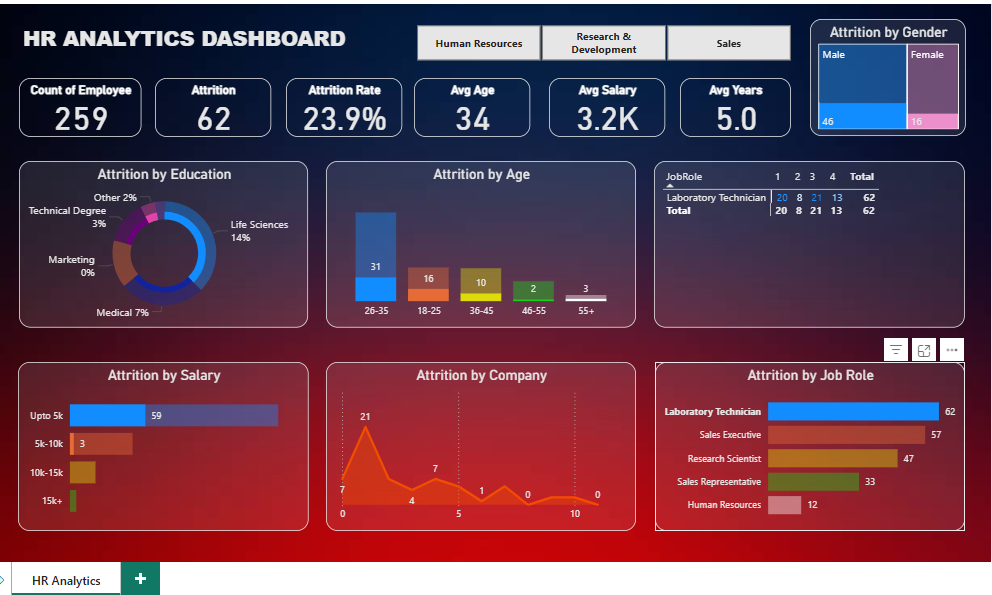

Layout of this report page (visuals, bound fields, positions):
{"tool":"powerbi","page":{"name":"Page 1","canvas":[1280,720],"ordinal":0},"visuals":[{"type":"card","title":"Count of Employee","fields":{"Values":["Count(HR_Analytics.EmpID)"]},"box":[26.4,95.1,158.5,75.7],"z":0},{"type":"card","title":"Attrition","fields":{"Values":["Sum(HR_Analytics.AttritionCount)"]},"box":[200.7,95.1,149.7,75.7],"z":1000},{"type":"card","title":"Attrition Rate","fields":{"Values":["HR_Analytics.AttritionRate"]},"box":[369.7,95.1,149.7,75.7],"z":2000},{"type":"card","title":"Avg Age","fields":{"Values":["Avg(HR_Analytics.Age)"]},"box":[535.2,95.1,149.7,75.7],"z":3000},{"type":"card","title":"Avg Years","fields":{"Values":["Avg(HR_Analytics.YearsAtCompany)"]},"box":[878.6,95.1,142.6,75.7],"z":4000},{"type":"card","title":"Avg Salary","fields":{"Values":["Avg(HR_Analytics.MonthlyIncome)"]},"box":[709.5,95.1,149.7,75.7],"z":5000},{"type":"donutChart","title":"Attrition by Education","fields":{"Category":["HR_Analytics.EducationField"],"Y":["Sum(HR_Analytics.AttritionCount)"]},"box":[26.4,202.5,373.3,214.8],"z":6000},{"type":"columnChart","title":"Attrition by Age","fields":{"Category":["HR_Analytics.AgeGroup"],"Y":["Sum(HR_Analytics.AttritionCount)"]},"box":[422.6,202.5,399.7,214.8],"z":7000},{"type":"pivotTable","fields":{"Rows":["HR_Analytics.JobRole"],"Columns":["HR_Analytics.JobSatisfaction"],"Values":["Sum(HR_Analytics.AttritionCount)"]},"box":[845.1,202.5,401.4,214.8],"z":8000},{"type":"barChart","title":"Attrition by Salary","fields":{"Category":["HR_Analytics.SalarySlab"],"Y":["Sum(HR_Analytics.AttritionCount)"]},"box":[24.6,461.3,375,218.3],"z":9000},{"type":"barChart","title":"Attrition by Job Role","fields":{"Y":["Sum(HR_Analytics.AttritionCount)"],"Category":["HR_Analytics.JobRole"]},"box":[846.9,461.3,399.7,218.3],"z":10000},{"type":"areaChart","title":"Attrition by Company","fields":{"Category":["HR_Analytics.YearsAtCompany"],"Y":["Sum(HR_Analytics.AttritionCount)"]},"box":[422.6,461.3,399.7,218.3],"z":11000},{"type":"treemap","title":"Attrition by Gender","fields":{"Values":["Sum(HR_Analytics.AttritionCount)"],"Group":["HR_Analytics.Gender"]},"box":[1045.8,19.4,200.7,151.4],"z":12000},{"type":"slicer","title":"Departments","fields":{"Values":["HR_Analytics.Department"]},"box":[513.4,20,532,58.6],"z":13000},{"type":"textbox","box":[25.7,20,463.4,60.1],"z":14000}]}

Visuals, with their boxes in screenshot pixels (x1, y1, x2, y2):
"Count of Employee" card: [25,80,146,138]
"Attrition" card: [159,80,273,138]
"Attrition Rate" card: [288,80,402,138]
"Avg Age" card: [414,80,529,138]
"Avg Years" card: [677,80,786,138]
"Avg Salary" card: [547,80,662,138]
"Attrition by Education" donutChart: [25,163,311,327]
"Attrition by Age" columnChart: [328,163,634,327]
pivotTable - HR_Analytics.JobRole x HR_Analytics.JobSatisfaction: [651,163,958,327]
"Attrition by Salary" barChart: [24,360,311,527]
"Attrition by Job Role" barChart: [652,360,958,527]
"Attrition by Company" areaChart: [328,360,634,527]
"Attrition by Gender" treemap: [804,23,958,138]
"Departments" slicer: [398,23,804,68]
textbox: [25,23,379,69]
